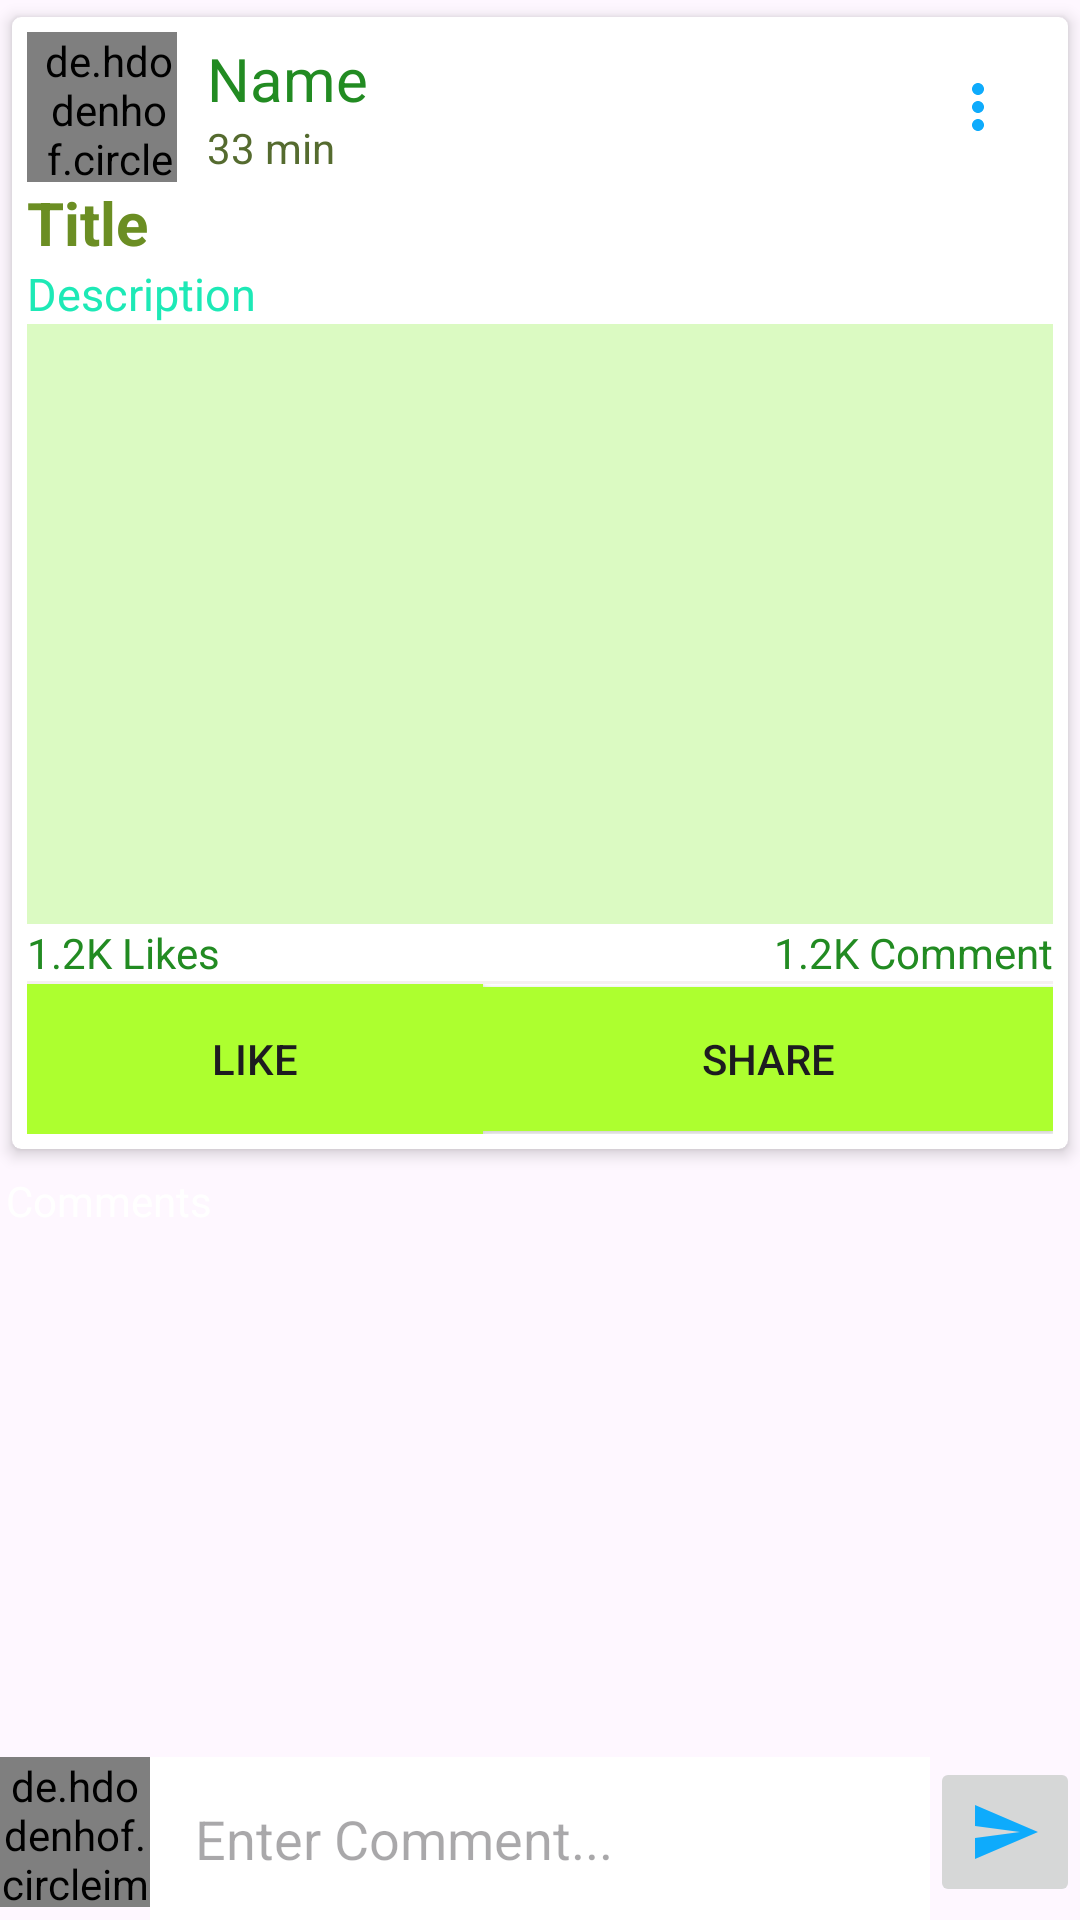

Named icons in this screenshot (1080px×1920px) and their centers, (x,y):
more: (978,107)
send: (1005,1832)
